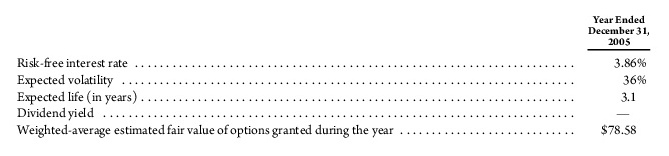table: (0, 0, 669, 156)
